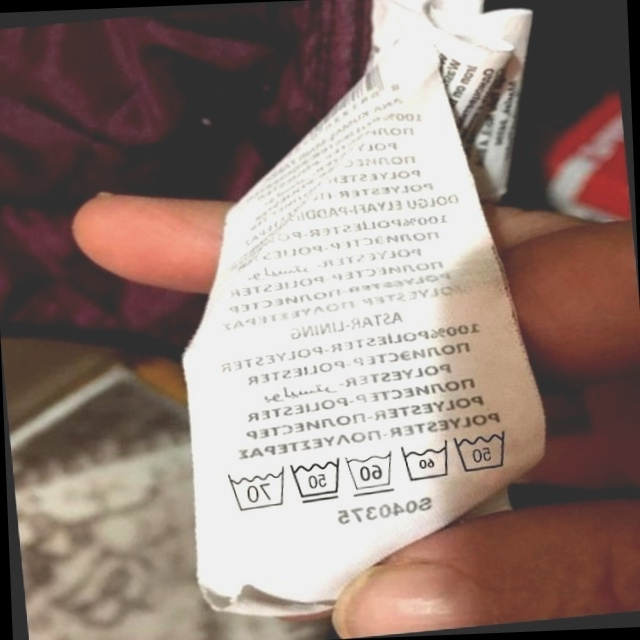50C: (449, 422, 515, 478), (286, 453, 346, 508)
60C: (340, 446, 398, 499), (396, 436, 454, 487)
70C: (221, 464, 289, 515)
